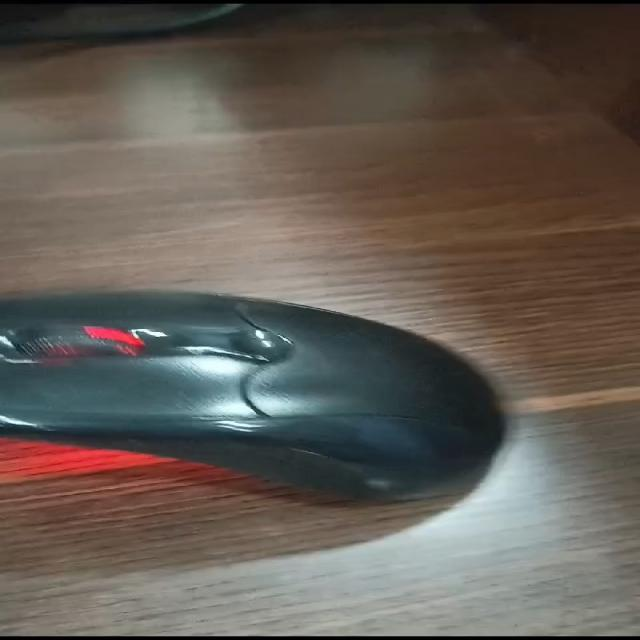mouse: (0, 274, 518, 534), (12, 240, 19, 242)
